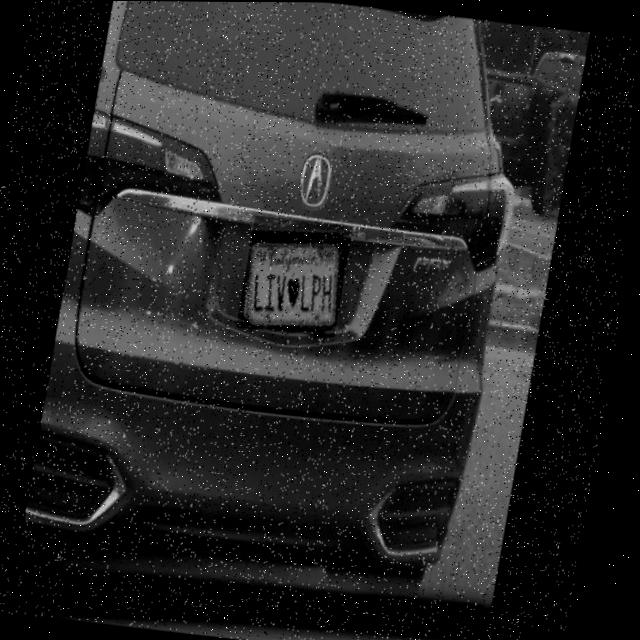LicensePlate: (239, 215, 356, 338)
